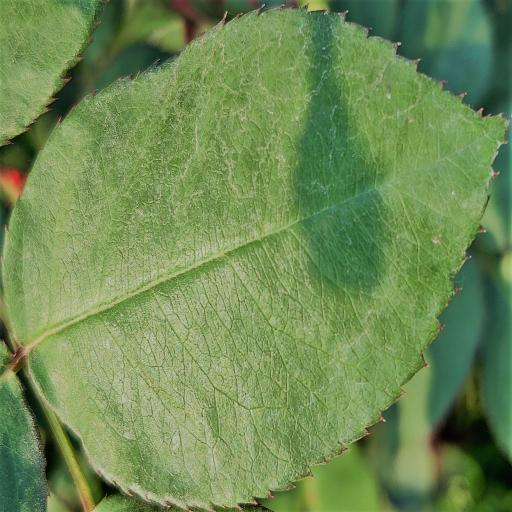healthy_leaf: (4, 9, 506, 509)
